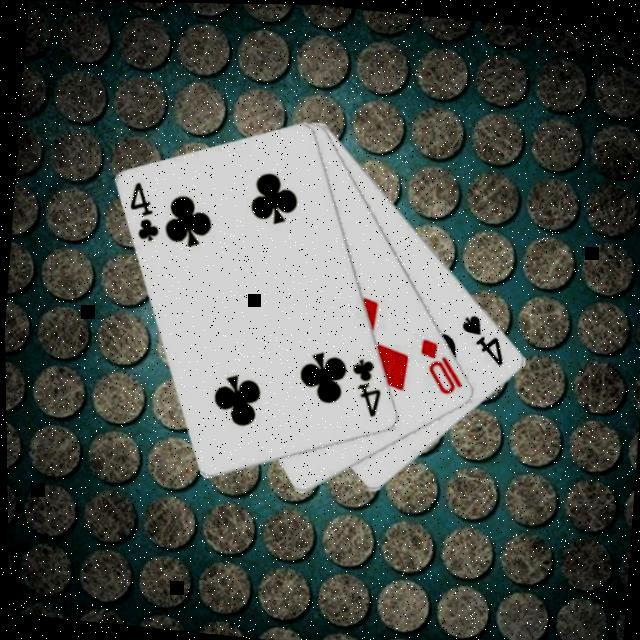10D: (410, 330, 466, 396)
4C: (120, 174, 164, 243), (342, 351, 384, 416)
4S: (452, 306, 508, 366)
